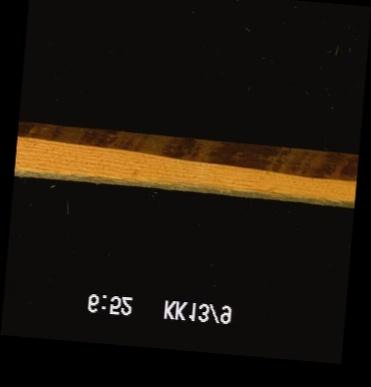wave: (17, 131, 357, 161), (19, 169, 353, 199)
